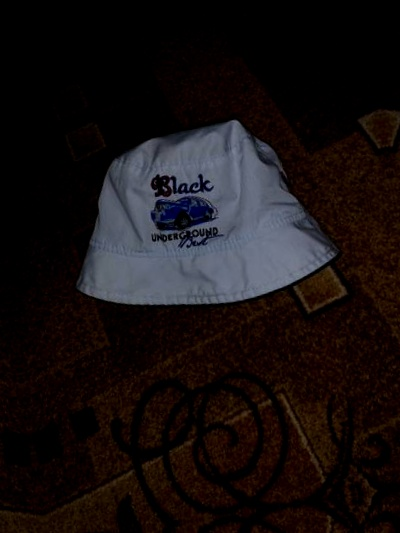Hat: (45, 52, 361, 348)
